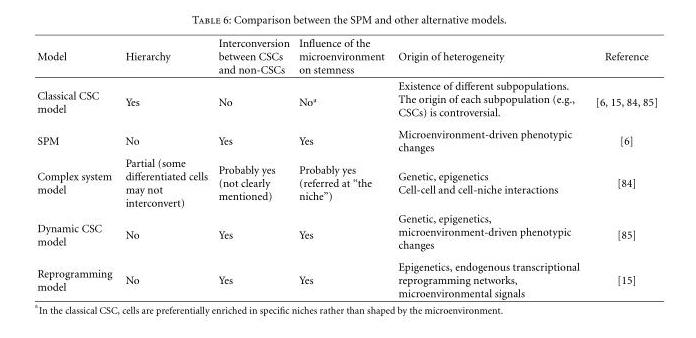table: (36, 36, 657, 299)
table column: (390, 36, 586, 299), (293, 36, 390, 299), (118, 36, 212, 299), (36, 36, 118, 299), (212, 36, 293, 299), (586, 36, 657, 299)
table column header: (36, 36, 657, 77)
table row: (36, 155, 657, 210), (36, 77, 657, 122), (36, 210, 657, 255), (36, 255, 657, 299), (36, 36, 657, 77), (36, 122, 657, 155)
